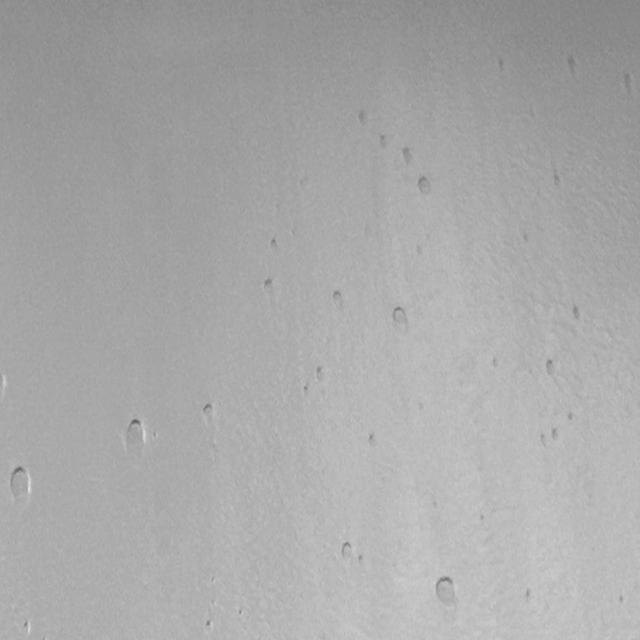pin holes: (122, 415, 151, 457), (6, 462, 33, 505), (433, 574, 458, 609), (617, 70, 638, 102), (388, 306, 410, 334), (414, 176, 436, 201), (398, 146, 419, 171), (563, 53, 583, 79), (338, 539, 358, 563), (541, 358, 561, 382), (492, 54, 511, 77), (568, 302, 586, 326), (330, 289, 346, 314), (312, 362, 328, 387), (376, 132, 394, 154), (200, 401, 217, 424), (356, 110, 374, 130), (550, 170, 566, 192), (261, 275, 278, 295), (548, 426, 564, 446), (0, 370, 12, 396), (266, 235, 282, 254), (540, 429, 552, 454), (366, 432, 381, 449), (522, 586, 535, 605), (616, 591, 630, 607), (20, 619, 33, 636), (358, 552, 370, 570), (202, 618, 215, 634), (521, 228, 531, 248), (566, 410, 579, 425), (301, 381, 313, 396), (490, 354, 499, 371), (236, 608, 247, 620)
